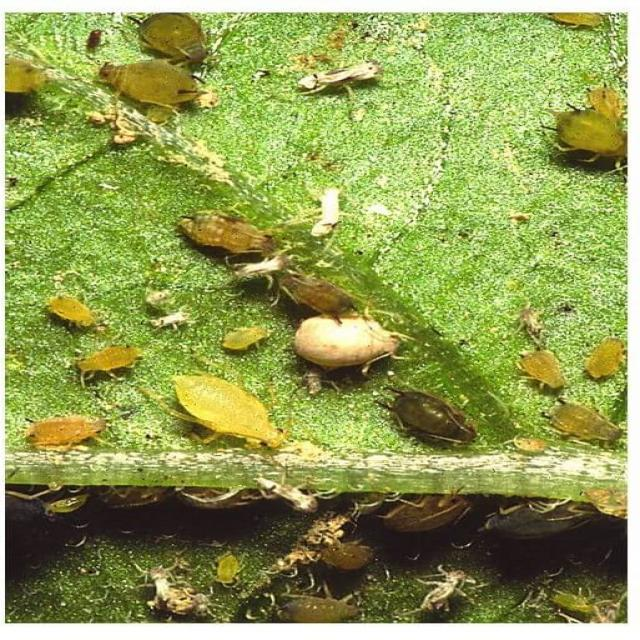Aphids: (162, 190, 372, 318), (62, 13, 250, 125), (154, 362, 314, 452), (514, 338, 629, 454), (354, 373, 504, 452), (526, 88, 632, 175), (10, 400, 135, 460), (264, 580, 384, 625), (32, 284, 135, 334), (302, 526, 389, 574), (62, 338, 158, 380), (202, 320, 295, 357), (190, 536, 254, 586), (548, 574, 606, 618)
